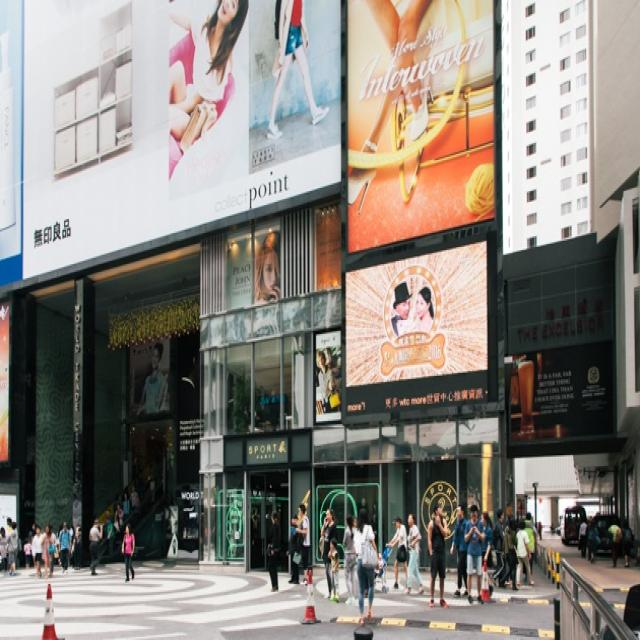body: (347, 0, 447, 213), (0, 478, 155, 582), (160, 0, 251, 149), (265, 0, 331, 141), (352, 505, 379, 629), (389, 278, 433, 339), (461, 500, 486, 606), (425, 502, 449, 610), (137, 342, 170, 415), (227, 396, 286, 434), (251, 230, 280, 304), (402, 511, 426, 597), (384, 514, 410, 592), (318, 504, 338, 600), (449, 502, 469, 598), (340, 512, 359, 608), (513, 516, 537, 590), (293, 502, 313, 586), (499, 517, 521, 592), (315, 348, 340, 413), (479, 510, 496, 602), (284, 511, 304, 586), (488, 506, 506, 589), (266, 509, 282, 594), (120, 522, 137, 584), (28, 520, 45, 580), (522, 511, 536, 583), (39, 522, 56, 581), (326, 538, 341, 604), (505, 514, 544, 539), (606, 514, 623, 567), (56, 520, 72, 575), (88, 516, 102, 578), (6, 520, 19, 578), (586, 514, 600, 564), (621, 517, 634, 569), (120, 489, 131, 530), (578, 516, 588, 559), (369, 550, 385, 576), (22, 534, 32, 572), (129, 485, 139, 522), (115, 505, 124, 531), (352, 516, 359, 528)
